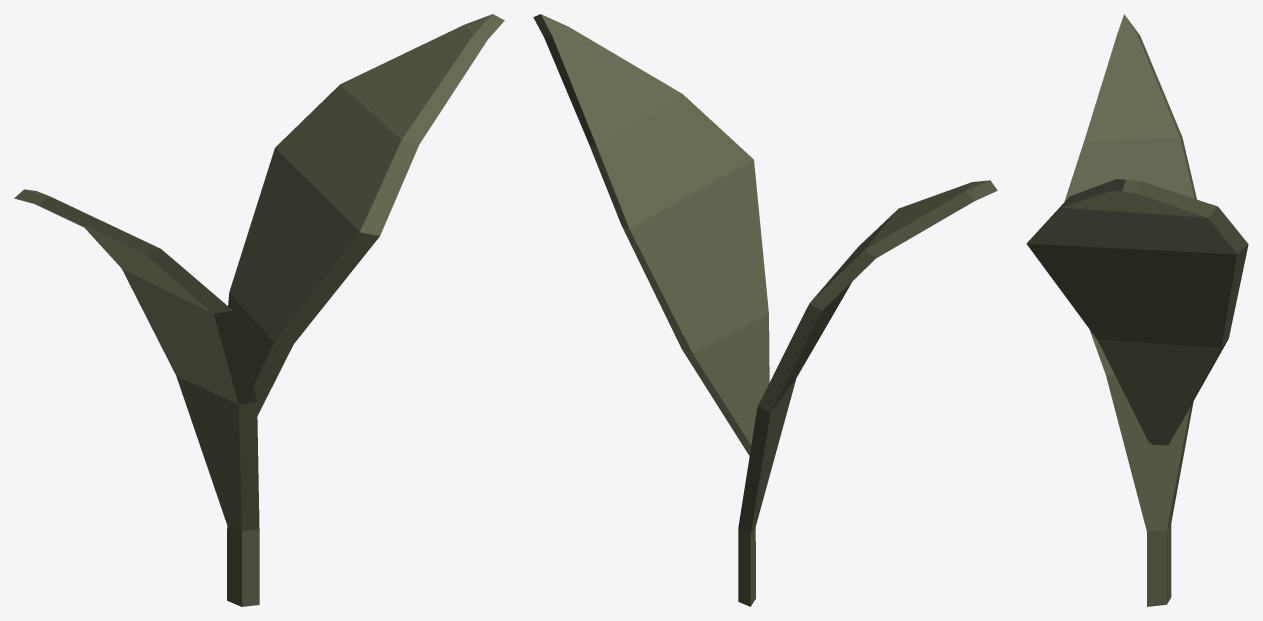
Rendered from Lettuce_1.gltf.
3 views of the same model, side by side, from view 1: azimuth 30°, elevation 25°; view 2: azimuth 150°, elevation 25°; view 3: azimuth 270°, elevation 25° (orthographic). The views are drawn at different scales.
Visible parts, largest first — view 1: Lettuce_1; view 2: Lettuce_1; view 3: Lettuce_1.
Part boxes in pixels (left/top/right/bottom): Lettuce_1: left=14, top=14, right=504, bottom=606; Lettuce_1: left=533, top=14, right=997, bottom=606; Lettuce_1: left=1026, top=14, right=1248, bottom=606.
Bounding box in the file's own units: 0.2761 × 0.2941 × 0.111.
